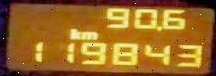-: (155, 25, 162, 30)
0: (132, 8, 156, 28)
1: (64, 41, 75, 62), (33, 41, 43, 62)
3: (175, 44, 200, 66)
4: (142, 43, 169, 64)
6: (161, 9, 185, 29)
8: (109, 42, 138, 65)
9: (78, 41, 105, 64), (104, 7, 128, 28)
X: (78, 30, 97, 39), (67, 27, 80, 39)
